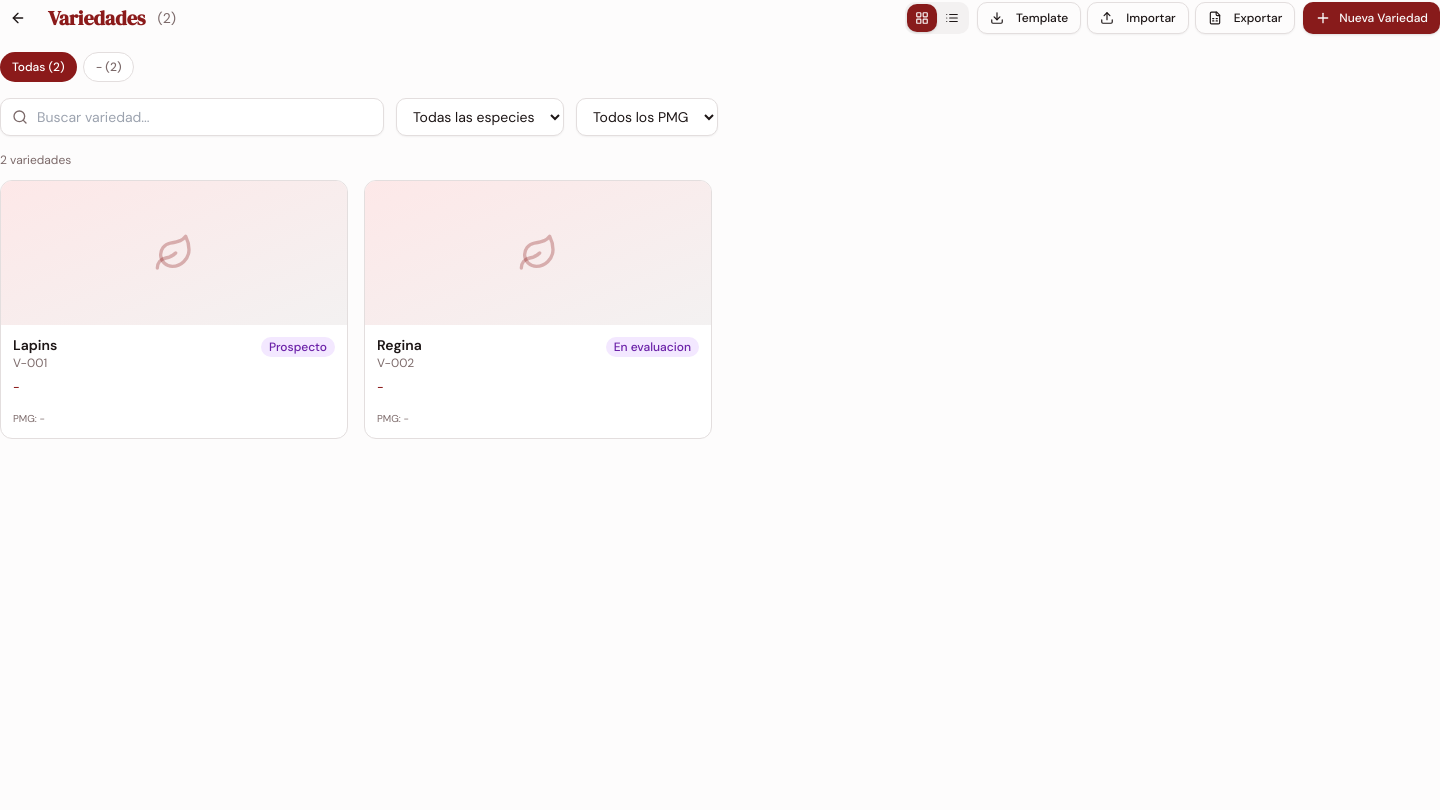
Test: VariedadesPage: buttons and dialogs › opens CrudForm when 'Nueva Variedad' is clicked in list view
The width and height of the screenshot is (1440, 810).
What coordinates should you click on to do the following:
click the button "Nueva Variedad"
I would click on:
 (1372, 18)
Its box is [1303, 2, 1439, 34].
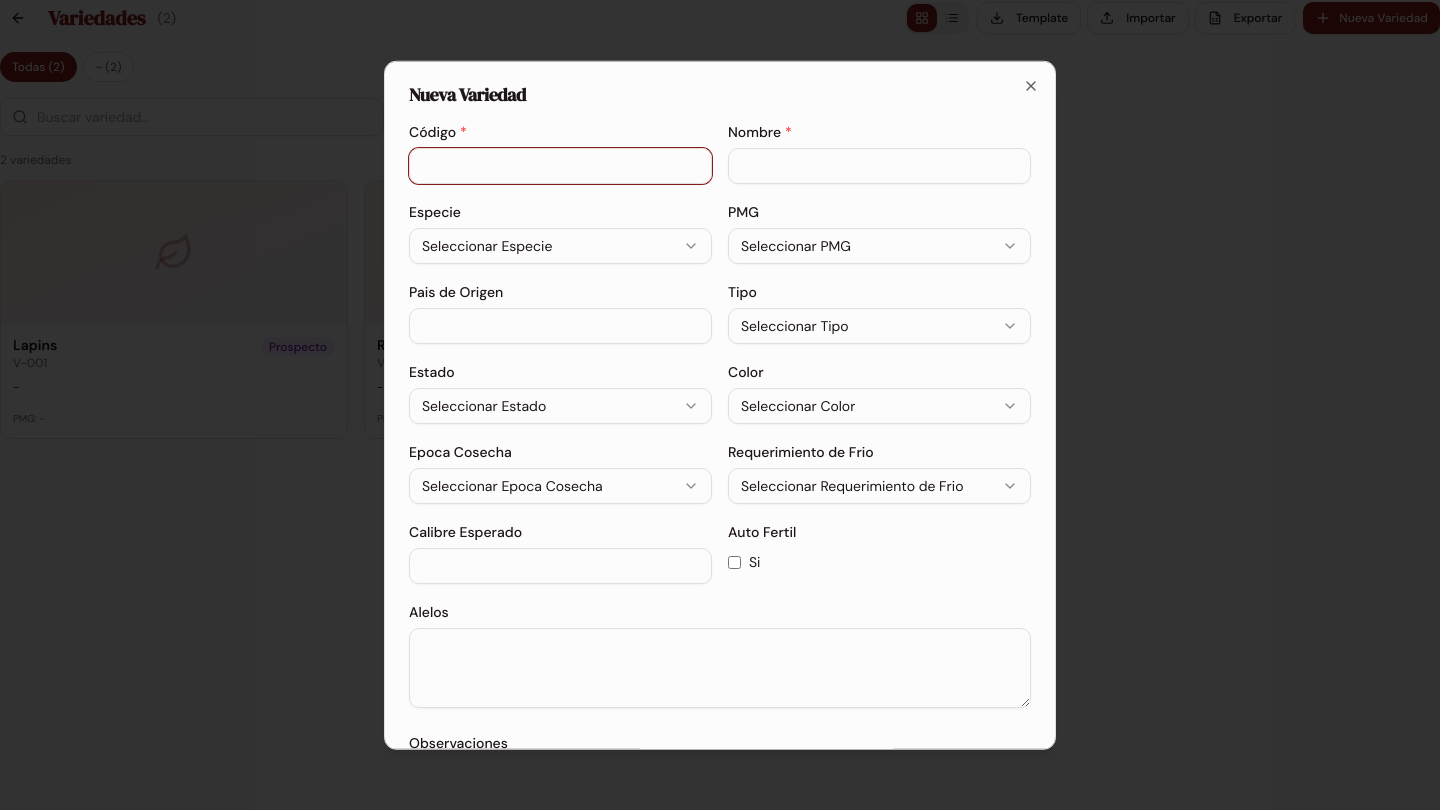
Expected: the heading "Nueva Variedad" is shown, [409, 82, 526, 107]
